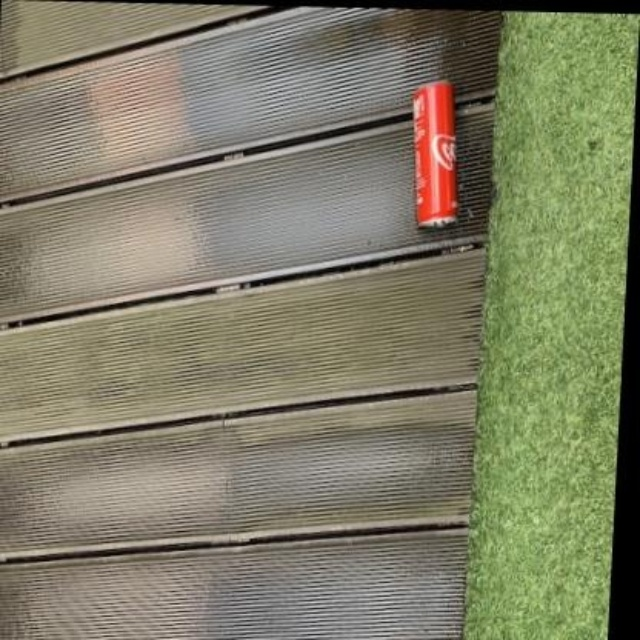trash: (412, 82, 455, 225)
